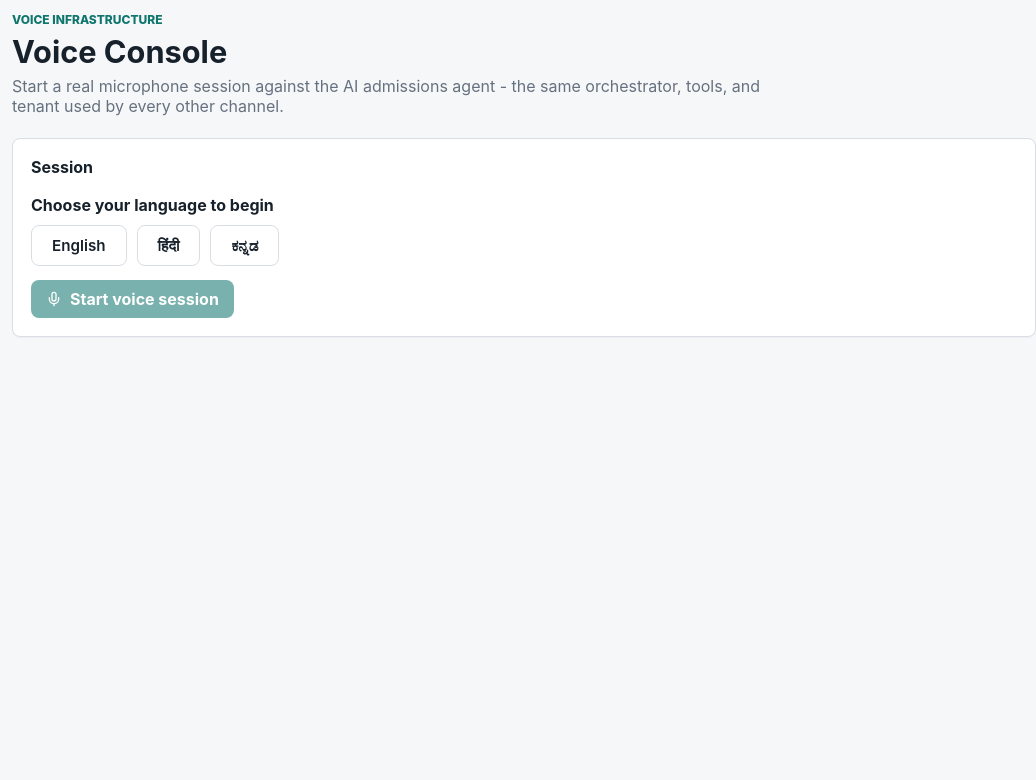
Scenario: VoiceConsole - live mode (realtime worker, Task 016) › polls and renders the persisted conversation transcript
Click the radio button labelled "English". click: (79, 246)
box: x1=31 y1=225 x2=127 y2=266
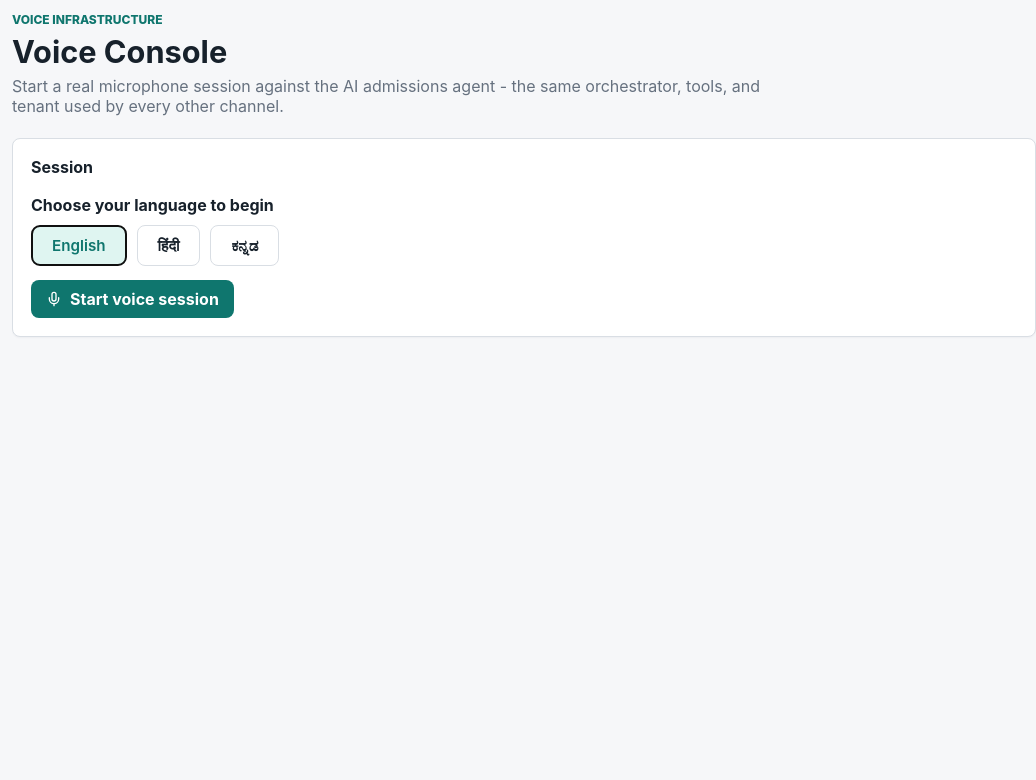
Expected: the button "Start voice session" is enabled
Click the button "Start voice session". click: (132, 299)
box: x1=31 y1=280 x2=234 y2=318
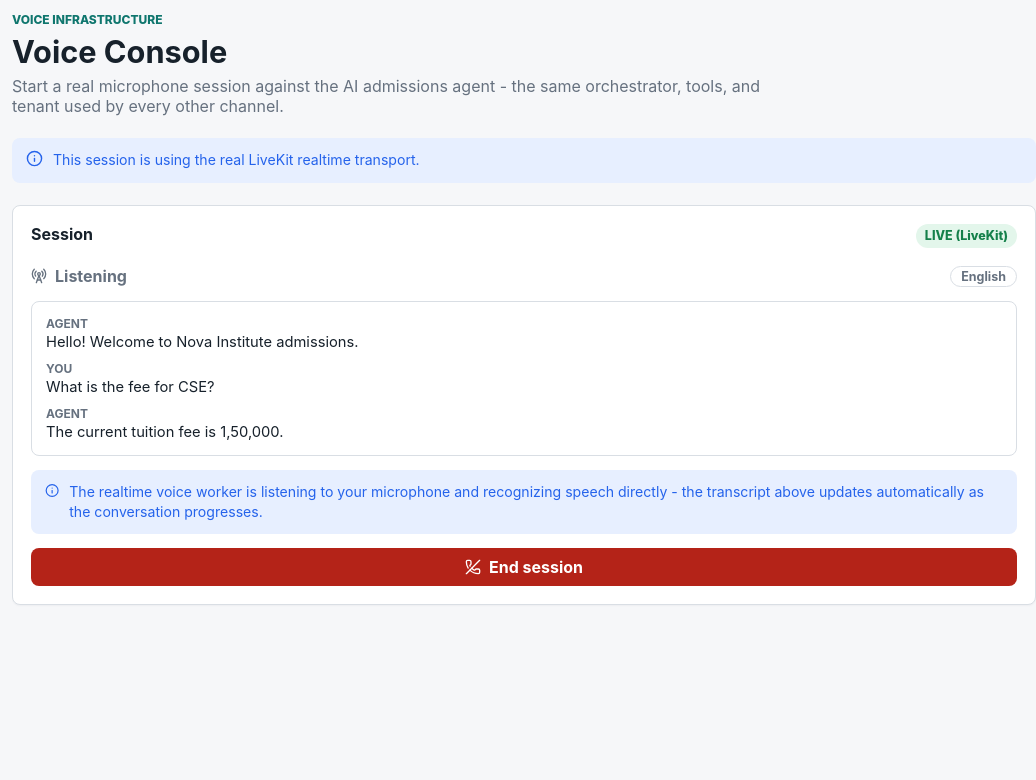
Expected: the text "What is the fee for CSE?" is shown, x1=46 y1=378 x2=214 y2=396
Expected: the text "The current tuition fee is 1,50,000." is shown, x1=46 y1=423 x2=284 y2=441
